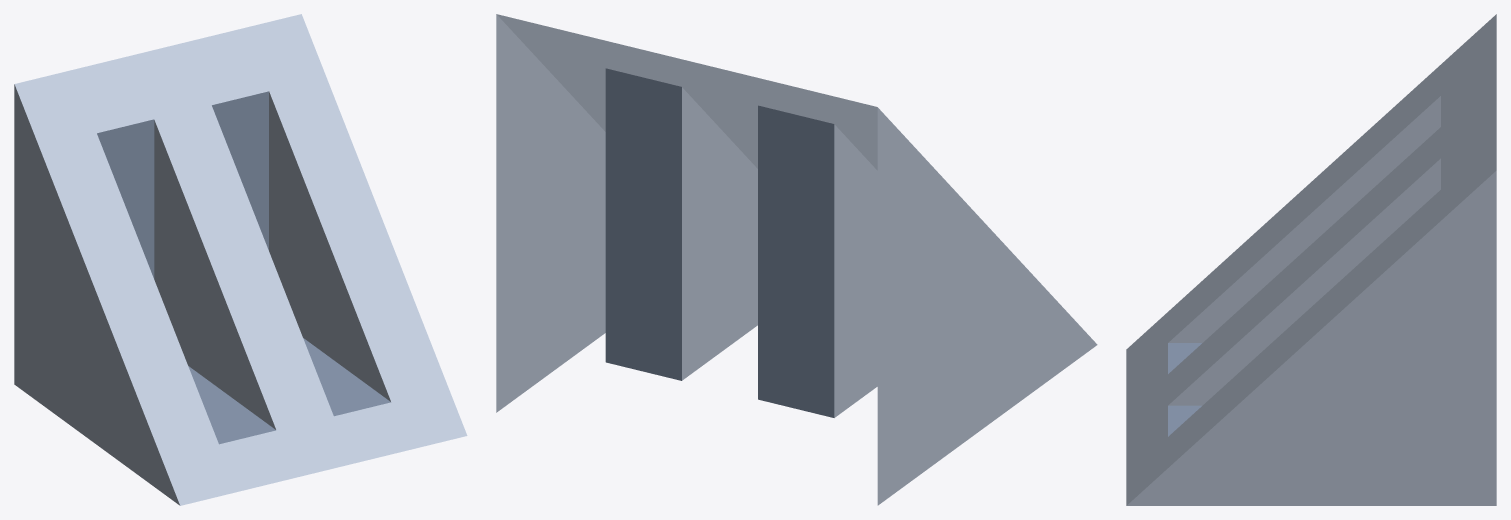
Rendered from ramp.fbx.
The picture shows the model from 3 angles, left to right: view 1: azimuth 30°, elevation 25°; view 2: azimuth 150°, elevation 25°; view 3: azimuth 270°, elevation 25°; orthographic projection. The views are drawn at different scales.
Visible parts, largest first — view 1: Cube.004; view 2: Cube.004; view 3: Cube.004.
Part boxes in pixels (x1,y1,x2,y2): Cube.004: (14,14,467,505); Cube.004: (496,14,1097,505); Cube.004: (1126,14,1496,505).
Size of the model in its own units: 1000 by 1000 by 1000.
